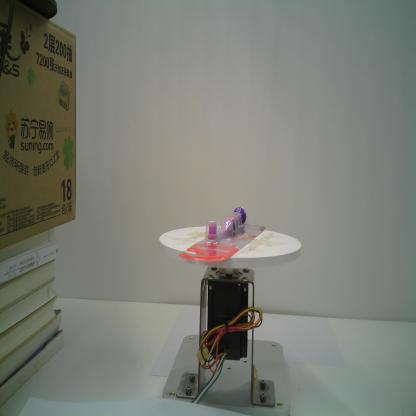Personal Hygiene: (178, 206, 267, 262)
